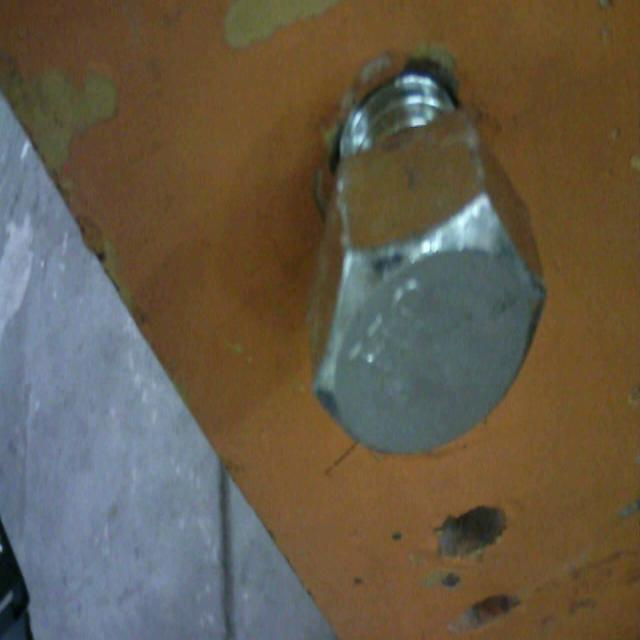Loose bolt: (314, 89, 552, 462)
Missing bolt: (432, 505, 510, 561), (448, 587, 522, 640)
Regular bolt: (306, 66, 547, 460)
